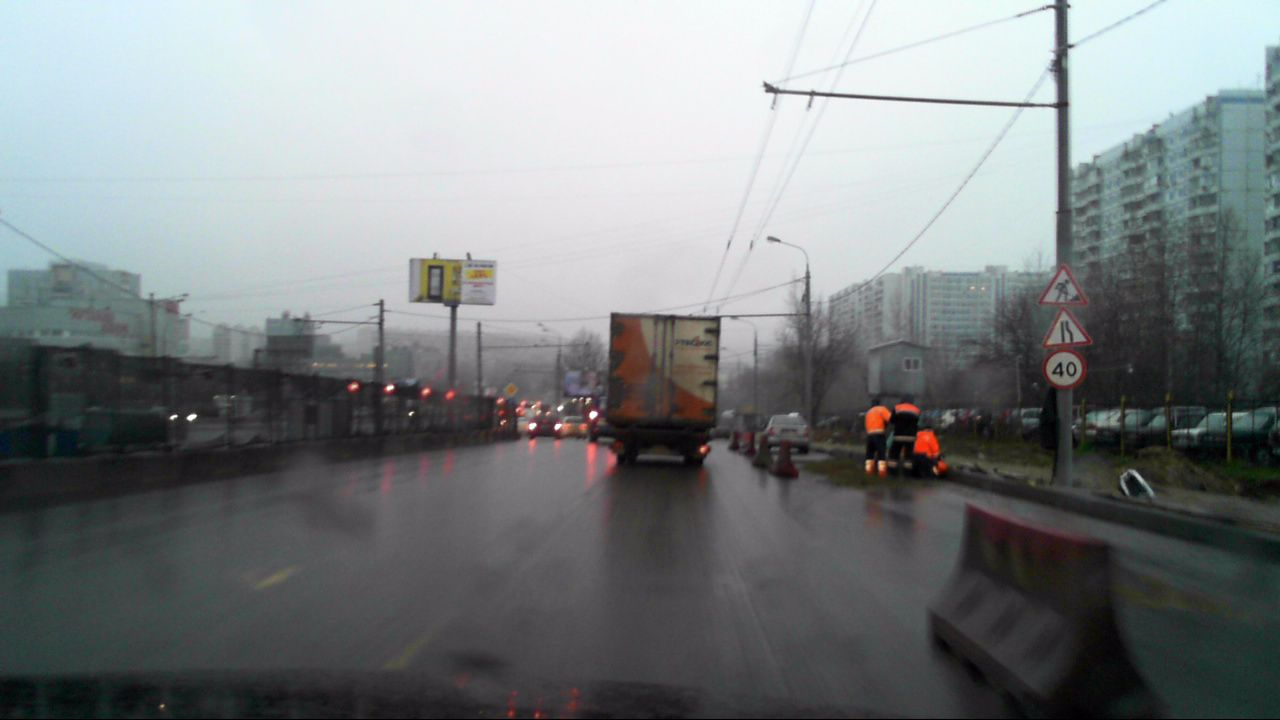speed_warning_40: (1043, 348, 1083, 385)
